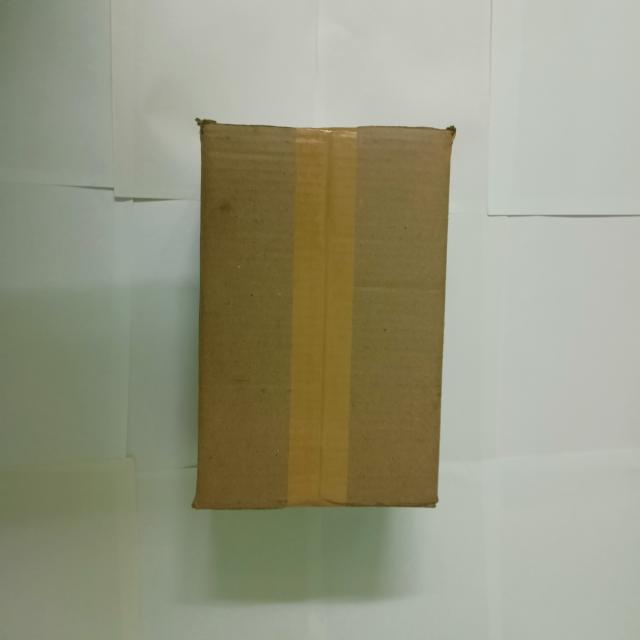box: (193, 121, 457, 514)
